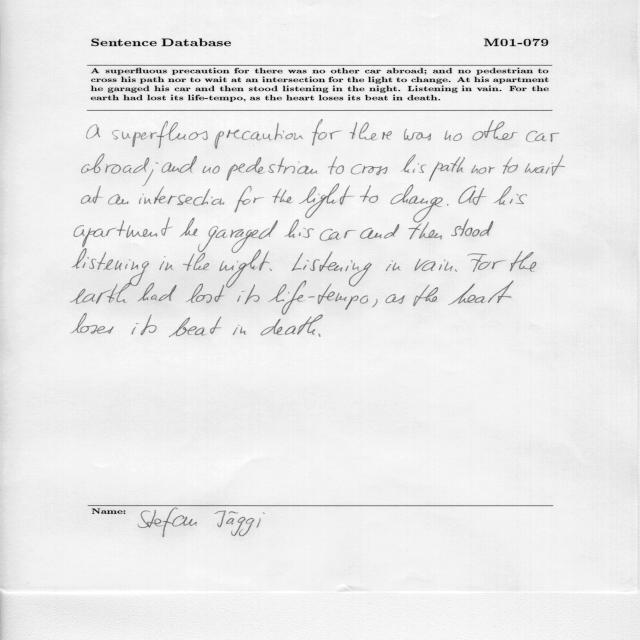word: (237, 280, 368, 315), (74, 218, 172, 247), (291, 252, 372, 287), (198, 220, 278, 253), (112, 121, 208, 148), (215, 123, 304, 149), (70, 273, 144, 304), (227, 157, 319, 181), (390, 185, 443, 223), (220, 249, 270, 288), (299, 184, 354, 218), (73, 249, 150, 273), (139, 186, 224, 206), (448, 280, 514, 305), (82, 154, 149, 174), (261, 315, 323, 336), (169, 317, 221, 338), (473, 120, 519, 140), (429, 157, 465, 182), (72, 313, 114, 334), (525, 155, 565, 176), (312, 120, 342, 146), (235, 186, 265, 212), (349, 122, 392, 140), (451, 219, 493, 237), (138, 283, 177, 302), (468, 253, 506, 272), (161, 155, 197, 173), (494, 186, 528, 205), (360, 224, 399, 239), (408, 222, 442, 239), (284, 219, 314, 238), (510, 251, 537, 272), (458, 186, 487, 205), (131, 315, 157, 336), (413, 285, 438, 306), (186, 284, 212, 304), (401, 154, 427, 173), (183, 253, 209, 271), (415, 259, 453, 271), (320, 229, 356, 241), (351, 164, 388, 175), (143, 162, 159, 186), (82, 186, 103, 204), (526, 131, 559, 142), (360, 185, 378, 203), (180, 218, 197, 237), (273, 189, 293, 204), (404, 129, 431, 140), (328, 157, 344, 175), (503, 157, 518, 174), (108, 194, 129, 205), (471, 165, 495, 174), (160, 256, 174, 271), (385, 294, 405, 304), (87, 124, 100, 139), (214, 285, 225, 302), (445, 131, 462, 141), (386, 261, 401, 272), (202, 166, 220, 174), (233, 325, 246, 335), (372, 299, 378, 307), (318, 333, 321, 337), (269, 268, 272, 271), (455, 269, 457, 272), (447, 204, 449, 206)
